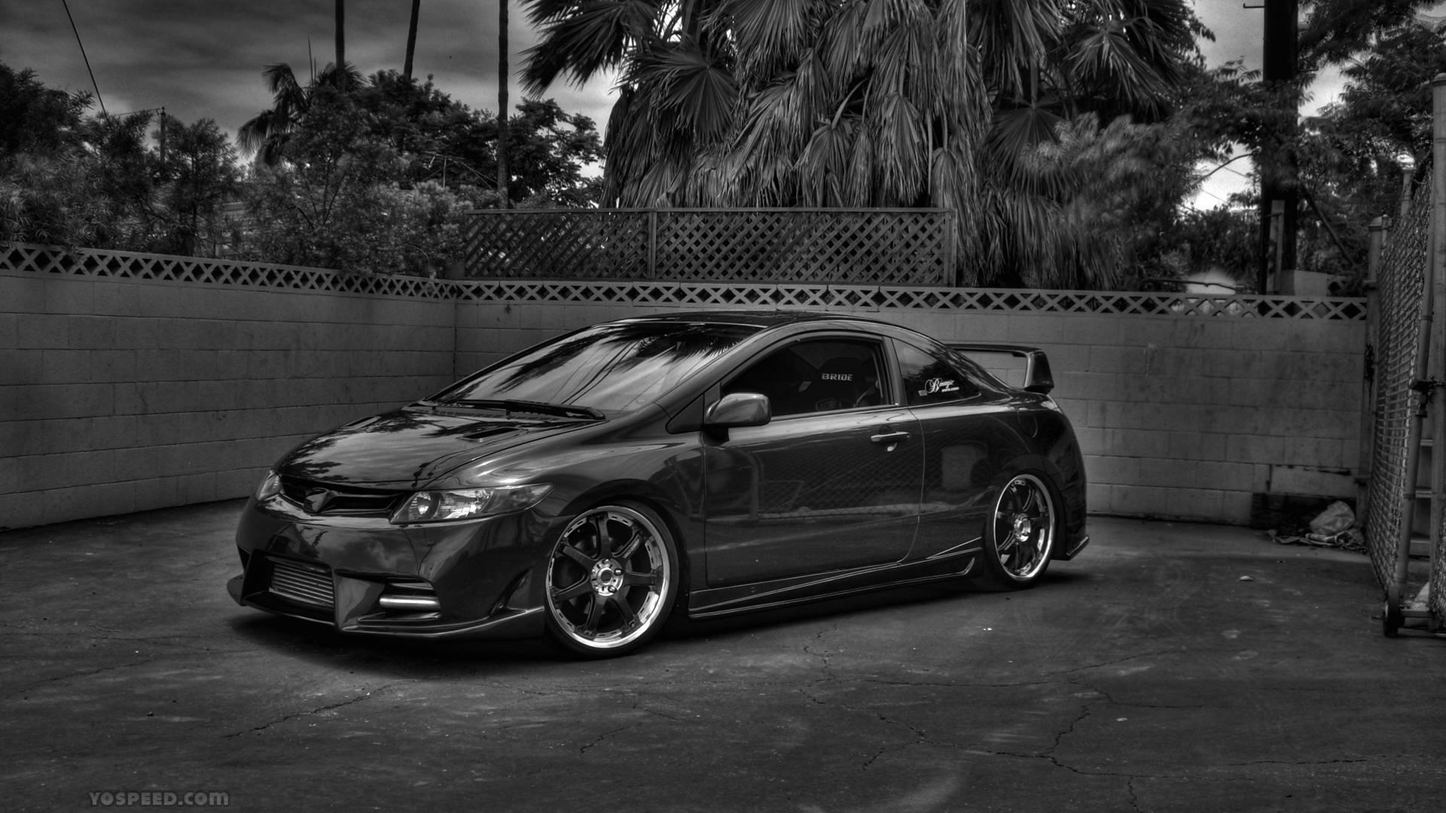Car hood: (257, 402, 675, 498)
Fender - -F-L-: (537, 394, 709, 575)
Fender - -R-L-: (876, 361, 1065, 519)
Front bumper: (223, 488, 593, 641)
Headlight - -L-: (386, 482, 552, 527)
Headlight - -R-: (251, 468, 288, 505)
Passenger-s door - -F-L-: (688, 324, 930, 627)
Rear bumper: (1032, 479, 1098, 566)
Side bumper - -L-: (678, 532, 998, 643)
Side mirror - -L-: (694, 387, 774, 443)
